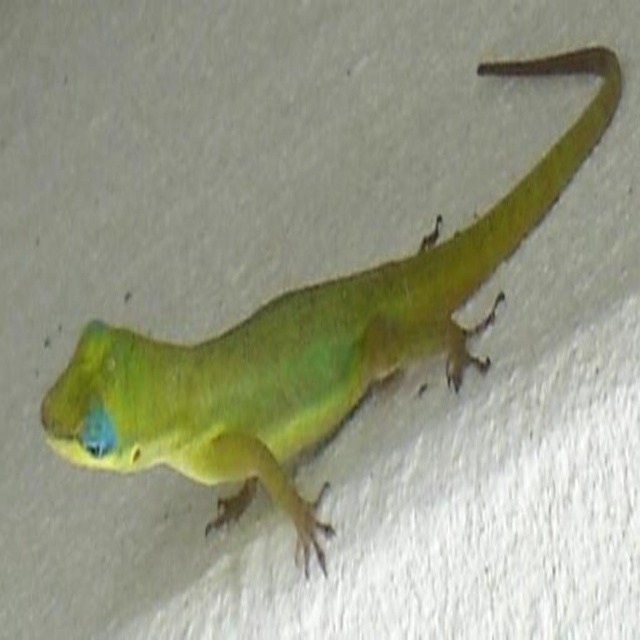Lizard: (39, 36, 623, 580)
